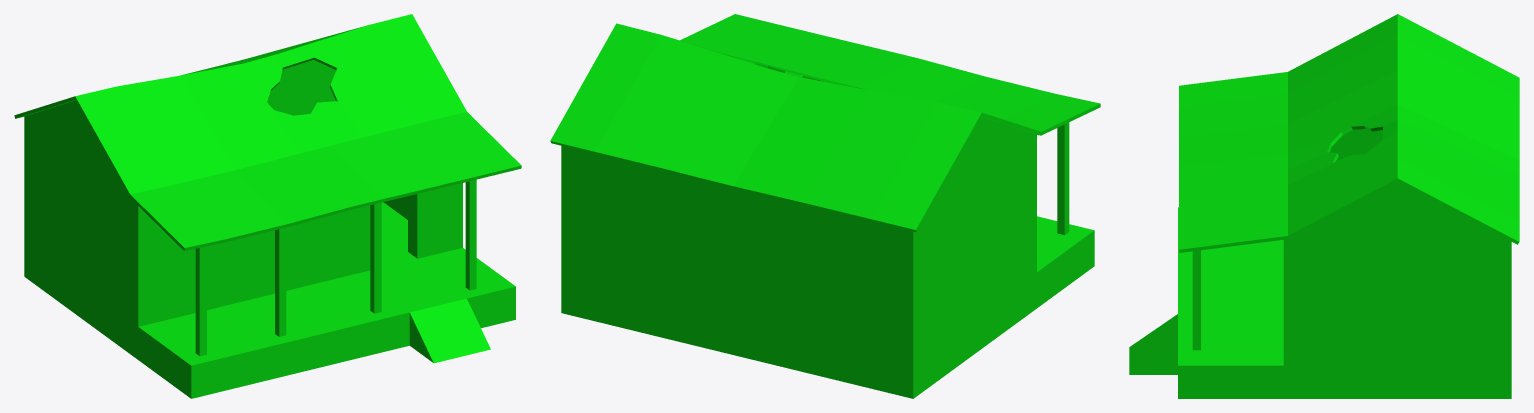
The model's file is Gravedigger House (Mesh Colider).fbx.
The picture shows the model from 3 angles, left to right: view 1: azimuth 30°, elevation 25°; view 2: azimuth 150°, elevation 25°; view 3: azimuth 270°, elevation 25°; orthographic projection. The views are drawn at different scales.
Parts seen in each view (by area): view 1: Cube.005; view 2: Cube.005; view 3: Cube.005.
Part boxes in pixels (<box>): Cube.005: <box>14,14,521,398</box>; Cube.005: <box>550,14,1100,398</box>; Cube.005: <box>1129,14,1519,398</box>.
Bounding box in the file's own units: 1061 × 673 × 1064.
